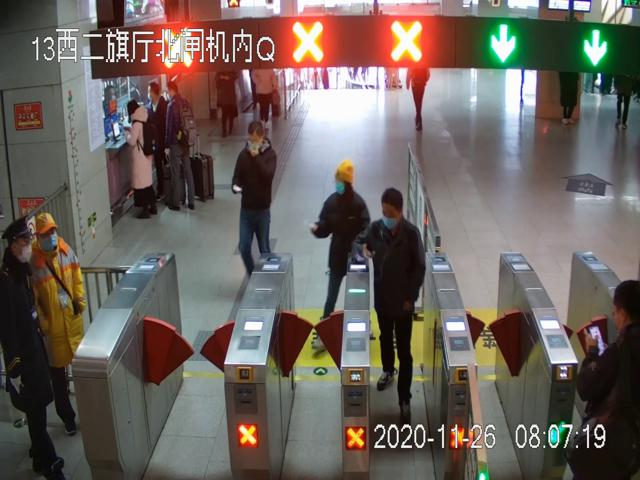person: (1, 216, 68, 480), (357, 189, 427, 426), (29, 213, 86, 435), (314, 159, 371, 347), (233, 122, 279, 277), (122, 100, 160, 219), (165, 81, 198, 211)
